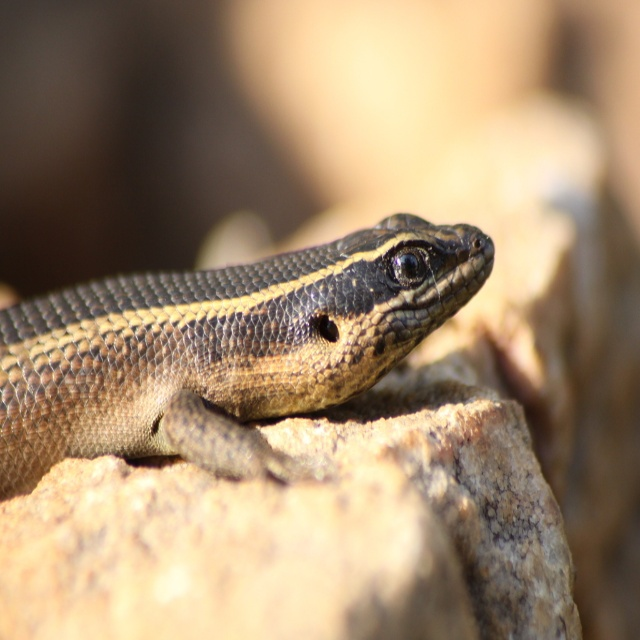Lizard: (9, 221, 530, 519)
